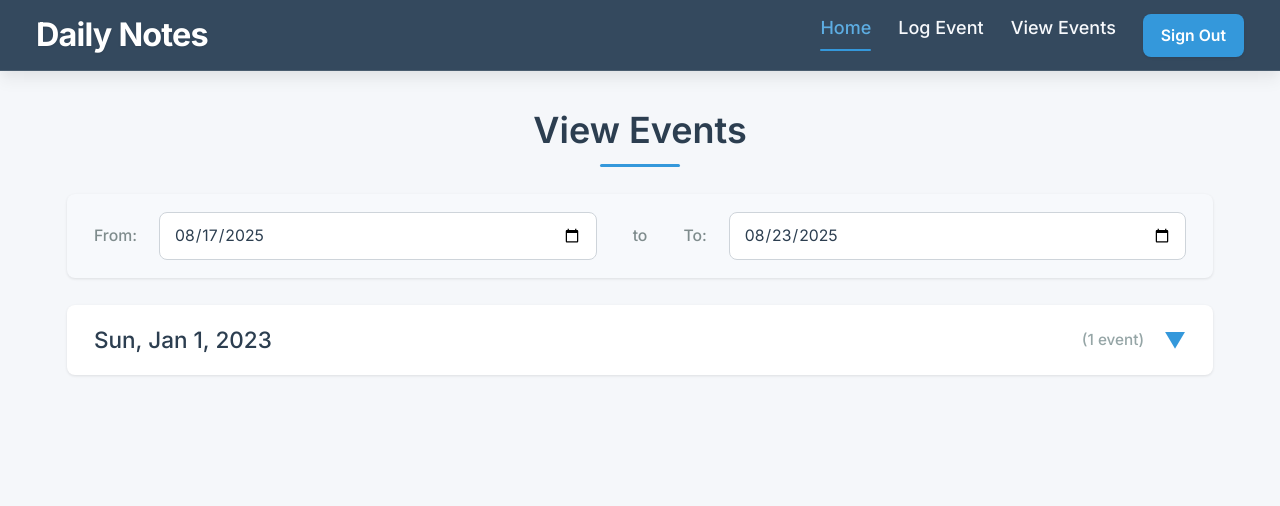
handles events with missing or malformed data
The width and height of the screenshot is (1280, 506).
Expand all day groups
What coordinates should you click on to do the following:
click the button "Sun, Jan 1, 2023 (1 event) ▼"
I would click on:
 (183, 340)
Its box is [67,305,1213,375].
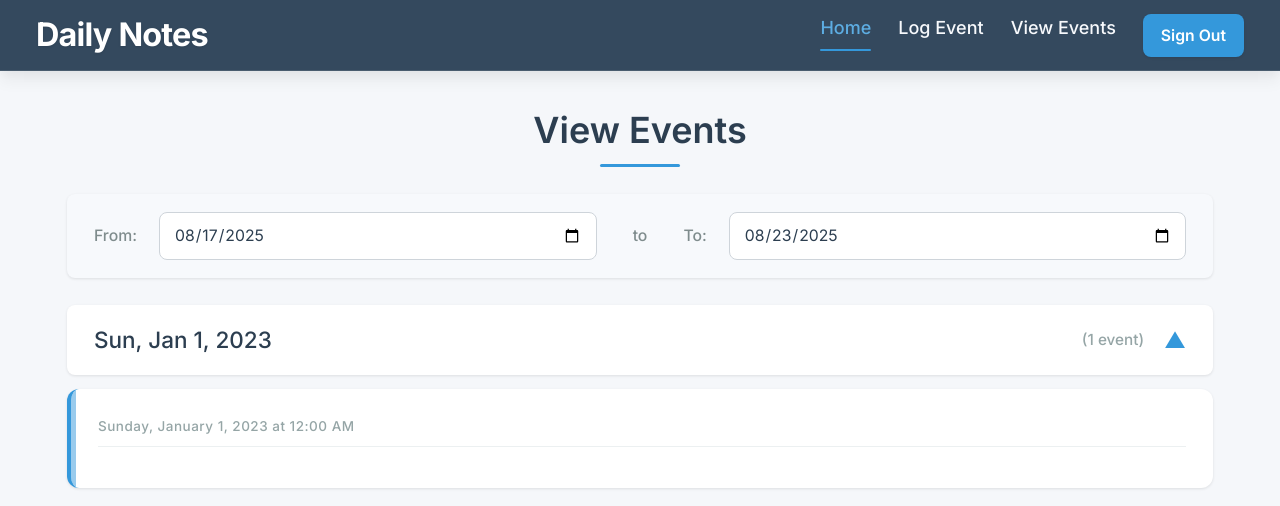
Check: the number of list items with test id "event-item" is 1, box [67,389,1213,488]
